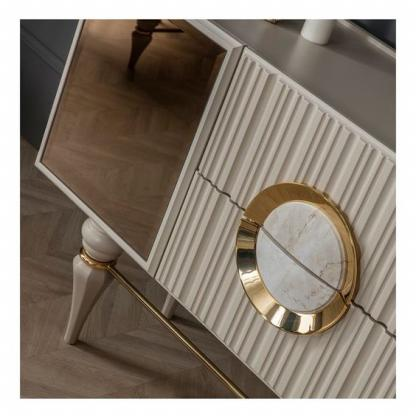Sideboard: (38, 19, 398, 400)
